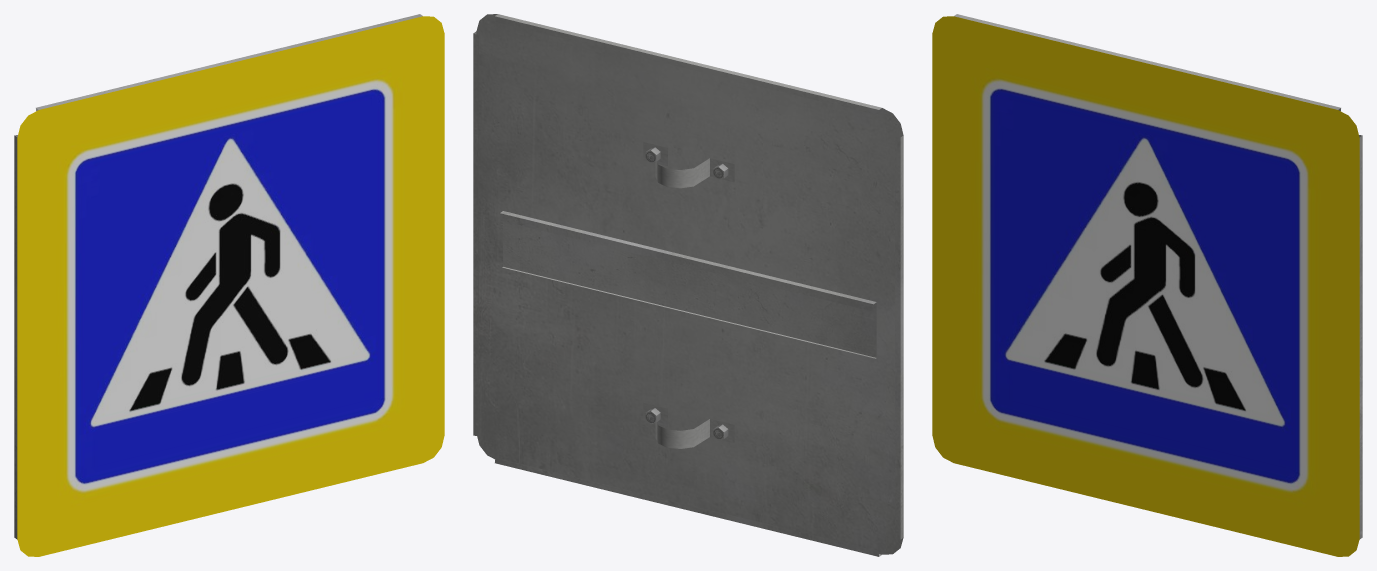
The model's file is sign_11.glb.
3 renders of one model, left to right at view 1: azimuth 30°, elevation 25°; view 2: azimuth 150°, elevation 25°; view 3: azimuth 330°, elevation 25°, orthographic.
Visible parts, largest first — view 1: sign_11; view 2: sign_11; view 3: sign_11.
Part boxes in pixels (x1,y1,x2,y2): sign_11: (14, 14, 444, 556); sign_11: (473, 14, 903, 556); sign_11: (932, 14, 1362, 556).
Bounding box in the file's own units: 2.4 × 2.4 × 0.2205.
Materials: 2 (2 with a texture image).
